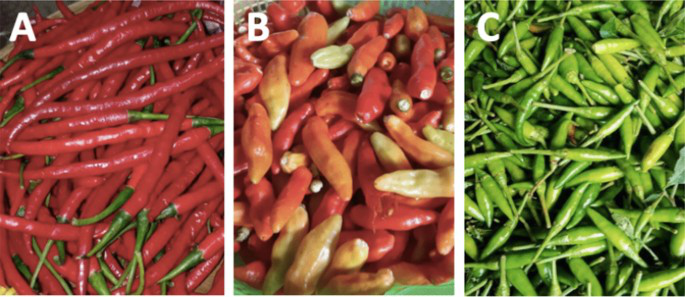Cabai: (42, 68, 206, 255)
